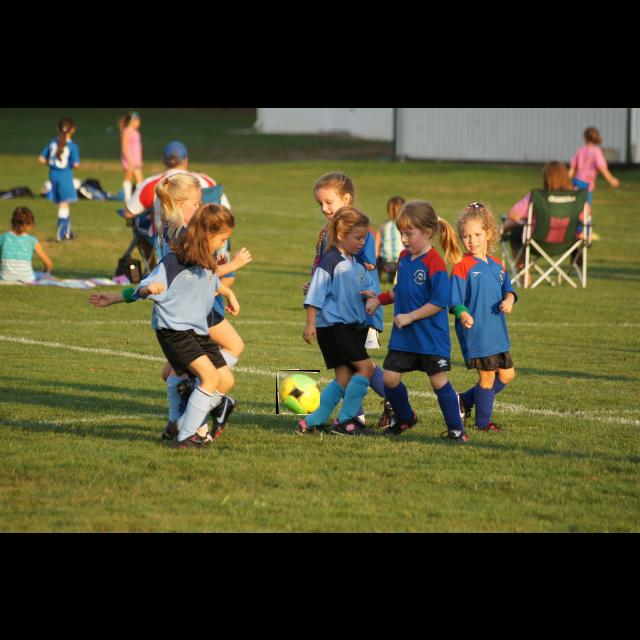Football: (276, 370, 320, 414)
